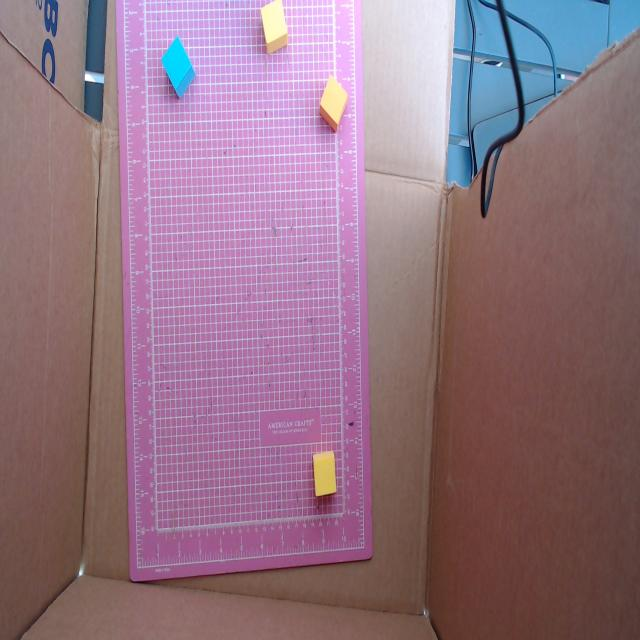bluecube: (162, 37, 195, 97)
orangecube: (319, 76, 348, 132)
yellowcube: (261, 0, 288, 53), (313, 452, 336, 497)
